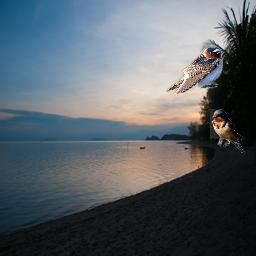Swallow: (166, 46, 223, 97), (210, 109, 245, 154)
